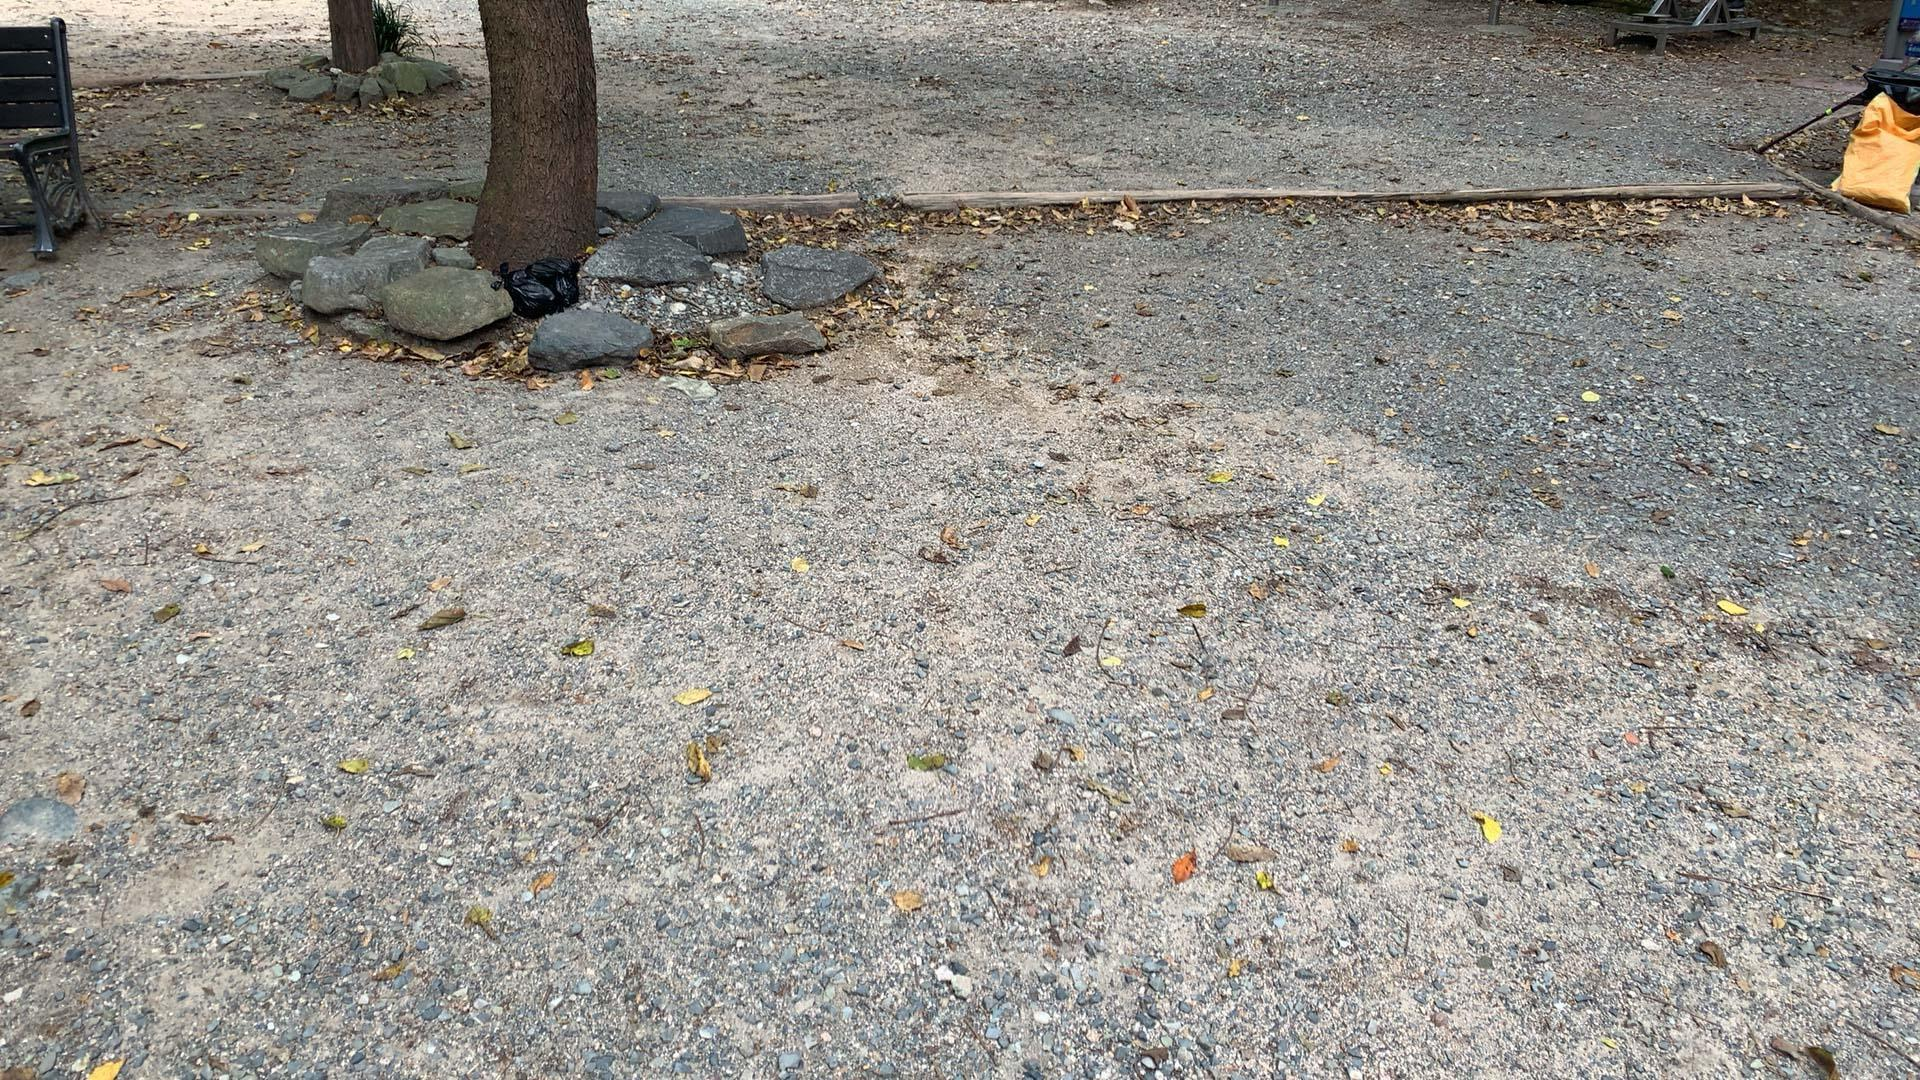black_bag: (484, 252, 584, 318)
